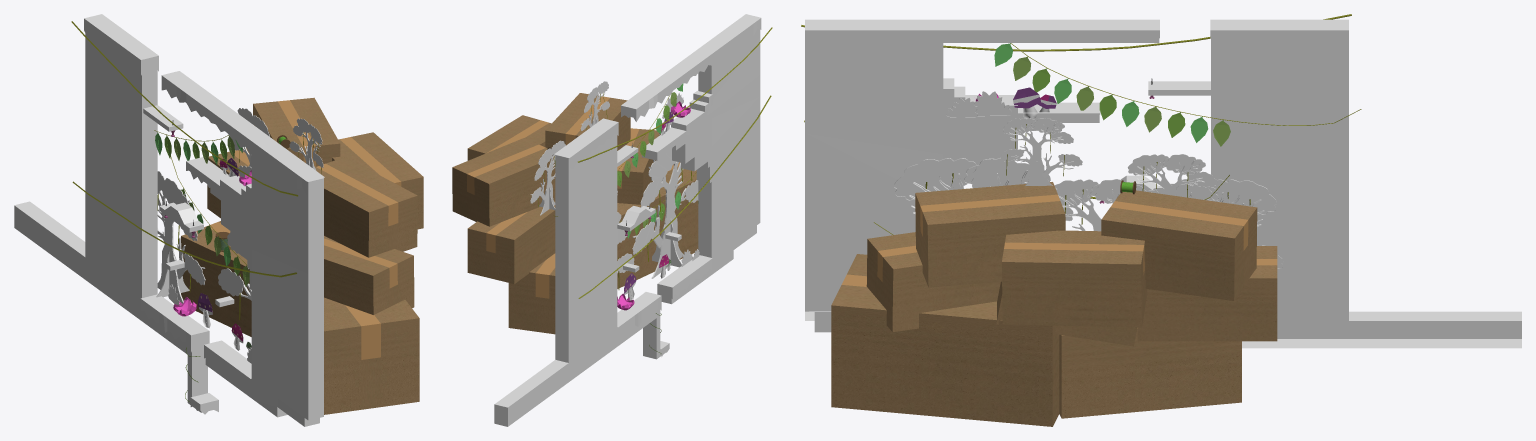
Rendered from Pantalla_10.DEF.fbx.
3 renders of one model, left to right at view 1: azimuth 30°, elevation 25°; view 2: azimuth 150°, elevation 25°; view 3: azimuth 270°, elevation 25°, orthographic. The views are drawn at different scales.
Visible parts, largest first — view 1: Screen8, Cube.007, Cube.011, Cube.009, Cube, Cube.010, Cube.012, Arbol1.003, Screen8.001, Plane.013, Arbol1.008, Plane.050 (+5 smaller); view 2: Screen8, Cube.010, Cube.001, Arbol1.002, Cube.007, Cube, Cube.011, Cube.012, Cube.009, Screen8.001, Arbol1.007, Plane.013 (+5 smaller); view 3: Screen8, Cube.007, Cube.012, Cube, Cube.010, Cube.011, Cube.001, Cube.009, Plane.013, Arbol1.002, Arbol1.008, Arbol1.003 (+6 smaller).
Part boxes in pixels (x1,y1,x2,y2): Screen8: [14, 14, 324, 426]; Cube.007: [324, 297, 419, 414]; Cube.011: [315, 157, 417, 257]; Cube.009: [324, 236, 414, 314]; Cube: [181, 221, 251, 336]; Cube.010: [253, 97, 340, 166]; Cube.012: [332, 132, 423, 229]; Arbol1.003: [156, 171, 205, 303]; Screen8.001: [143, 105, 234, 306]; Plane.013: [154, 130, 242, 165]; Arbol1.008: [289, 118, 323, 174]; Plane.050: [170, 156, 249, 286]; Screen8: [494, 14, 761, 426]; Cube.010: [452, 138, 555, 226]; Cube.001: [467, 201, 555, 283]; Arbol1.002: [632, 149, 698, 278]; Cube.007: [617, 162, 698, 288]; Cube: [508, 253, 555, 334]; Cube.011: [545, 93, 630, 150]; Cube.012: [467, 115, 551, 160]; Cube.009: [617, 128, 660, 204]; Screen8.001: [617, 145, 681, 272]; Arbol1.007: [530, 140, 565, 215]; Plane.013: [553, 83, 683, 216]; Screen8: [805, 19, 1521, 348]; Cube.007: [831, 254, 1059, 426]; Cube.012: [1002, 230, 1147, 327]; Cube: [1059, 328, 1241, 418]; Cube.010: [1101, 190, 1257, 300]; Cube.011: [915, 182, 1065, 287]; Cube.001: [1137, 246, 1277, 341]; Cube.009: [866, 232, 1000, 332]; Plane.013: [994, 43, 1361, 146]; Arbol1.002: [894, 158, 1073, 221]; Arbol1.008: [1000, 118, 1082, 189]; Arbol1.003: [1151, 179, 1283, 268].
Size of the model in its own units: 5787 by 8022 by 13738.
